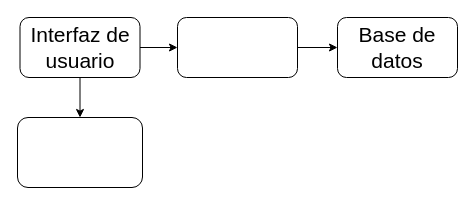
This 475x205 diagram has some shape labels left out. Each missing label, with the centre of its shape:
"Servidor" belongs at point (237, 47).
"Sistema de autentificación" belongs at point (79, 152).
